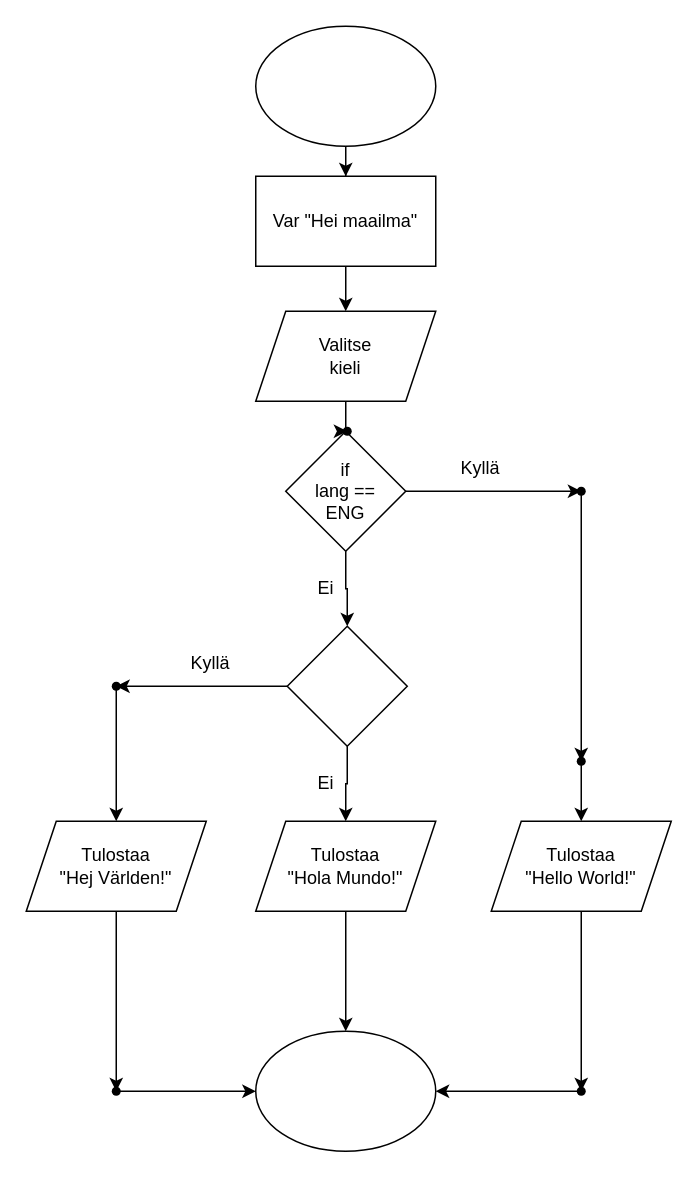
This 698x1178 diagram has some shape labels left out. The shapes that lost their labels are listed below. From the top down, each one's centre as x and y in pixels, then its label:
point (345, 85): Aloitus
point (346, 685): else if lang == SWE
point (345, 1090): Lopetus
